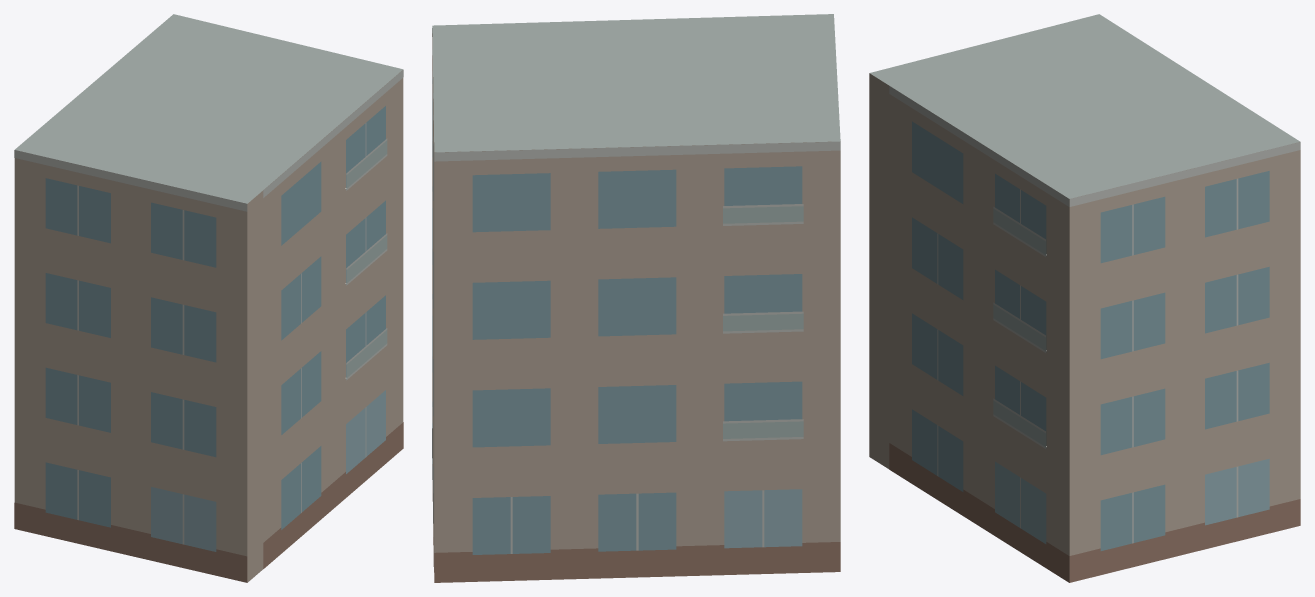
Rendered from survey-upis-32482110.glb.
The picture shows the model from 3 angles, left to right: view 1: azimuth 30°, elevation 25°; view 2: azimuth 150°, elevation 25°; view 3: azimuth 270°, elevation 25°; orthographic projection. The views are drawn at different scales.
Visible parts, largest first — view 1: survey-upis-32482110.tmp; view 2: survey-upis-32482110.tmp; view 3: survey-upis-32482110.tmp.
Boxes of the visible parts, x1,y1,x2,y2 form: survey-upis-32482110.tmp: [14, 14, 403, 582]; survey-upis-32482110.tmp: [432, 14, 840, 582]; survey-upis-32482110.tmp: [869, 14, 1300, 582].
Size of the model in its own units: 11.89 by 11.5 by 11.72.
